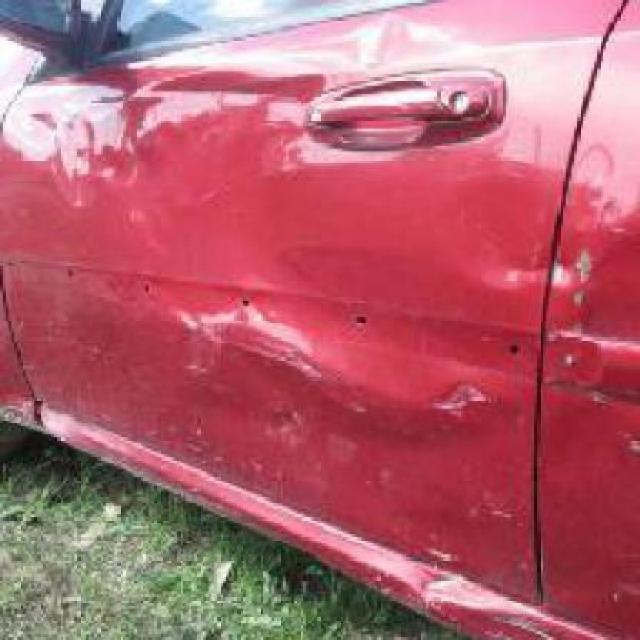damaged-door: (175, 306, 483, 451)
